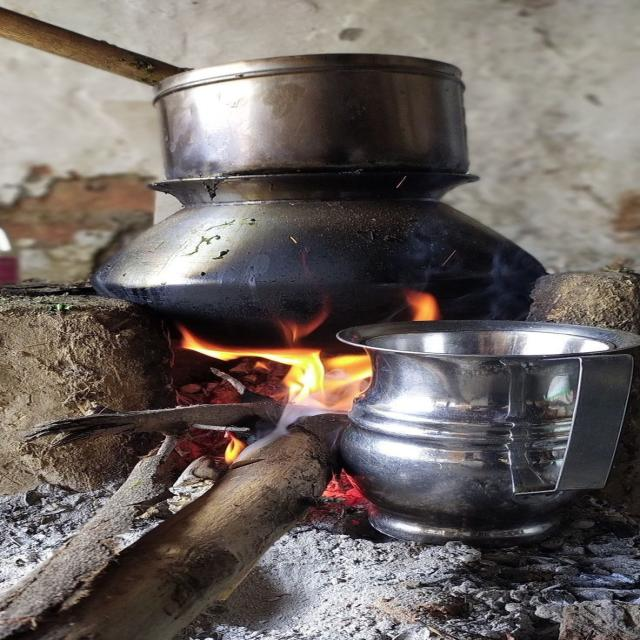fire: (178, 324, 373, 510), (401, 288, 440, 320)
